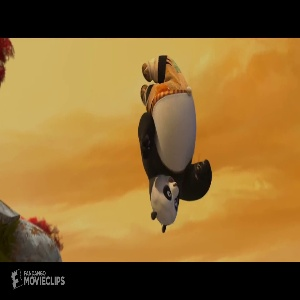po: (136, 52, 215, 235)
